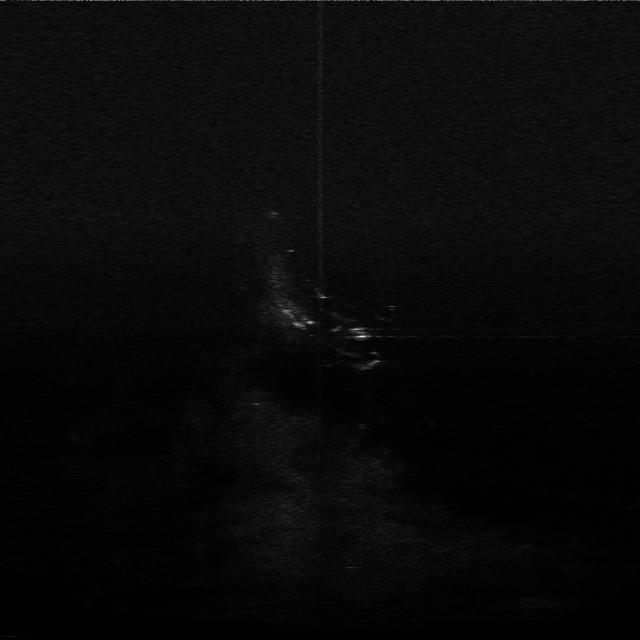rov: (350, 322, 376, 342)
